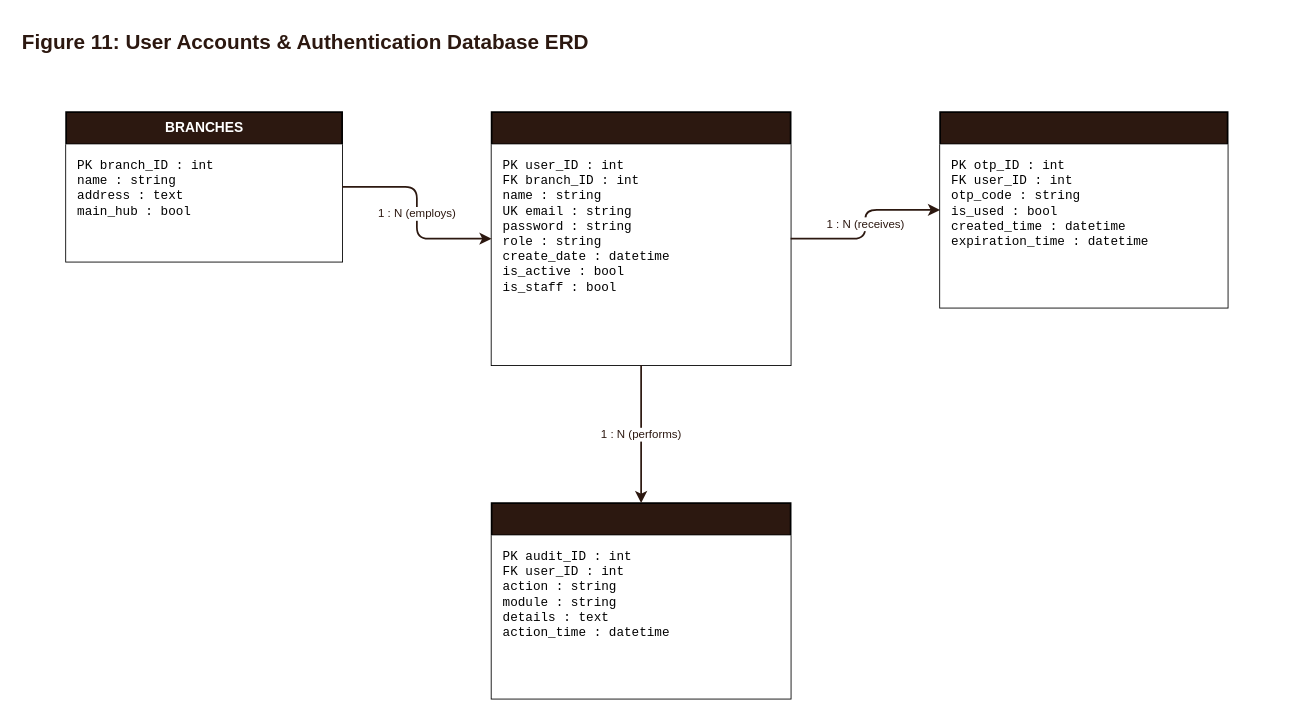
Image size: 1304x721. Some labels were removed from this diagram. Each missing label, with the box of its shape:
AUDIT_LOGS: (490, 502, 791, 699)
OTP_RECORD: (939, 111, 1228, 308)
USERS: (490, 111, 791, 365)
